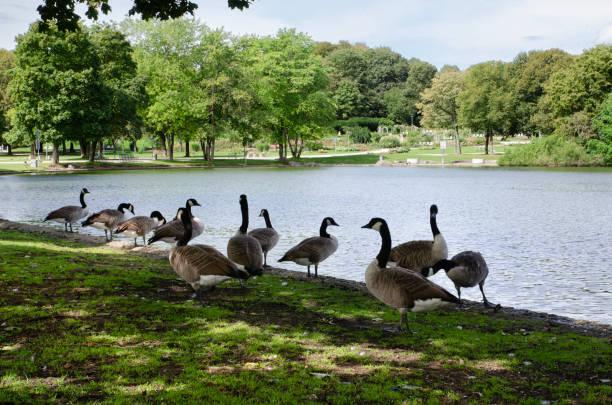Canadian-Goose: (361, 215, 447, 331), (171, 217, 237, 301), (429, 244, 495, 296), (284, 214, 338, 273), (227, 198, 264, 272), (400, 201, 442, 265), (157, 199, 207, 240), (86, 198, 132, 235), (44, 185, 87, 224), (122, 210, 161, 238), (255, 203, 278, 247)
